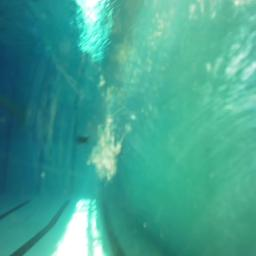Full: (76, 133, 91, 143)
